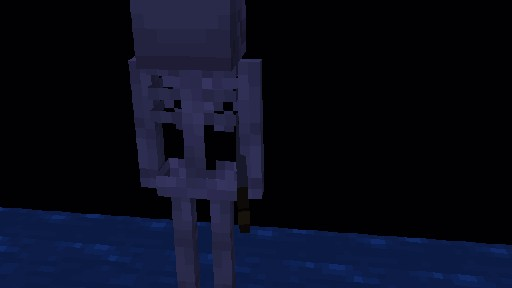skeleton: (124, 0, 263, 288)
